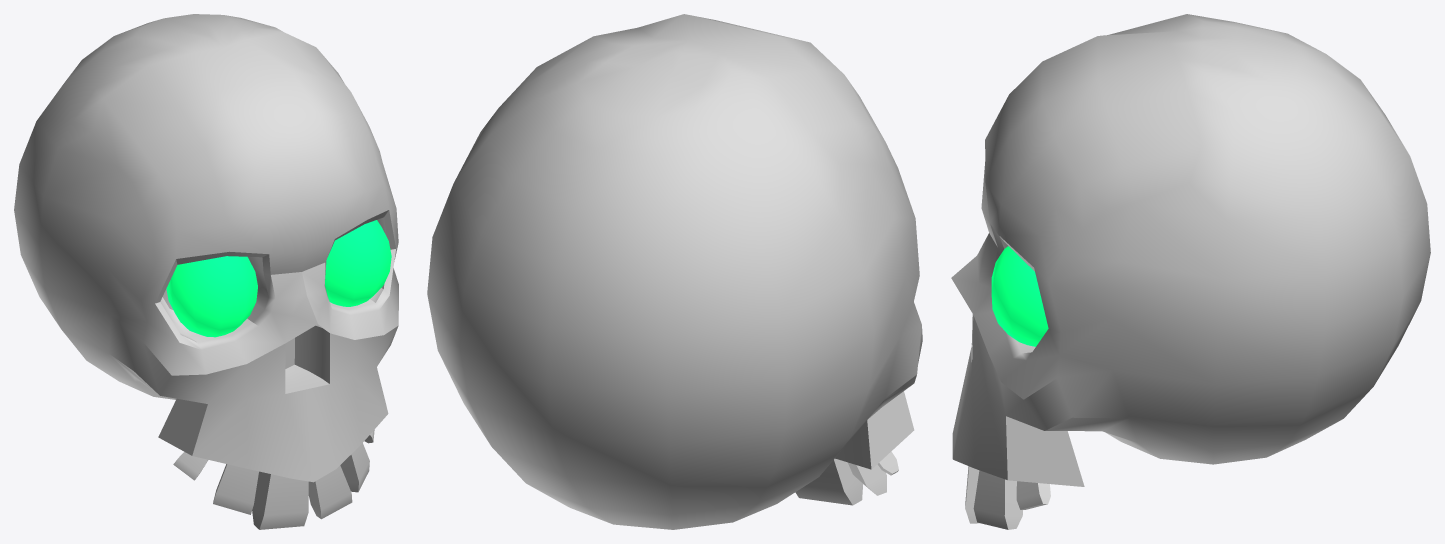
Rendered from skullProjectile.fbx.
The picture shows the model from 3 angles, left to right: view 1: azimuth 30°, elevation 25°; view 2: azimuth 150°, elevation 25°; view 3: azimuth 270°, elevation 25°; orthographic projection. The views are drawn at different scales.
Parts seen in each view (by area): view 1: charon1; view 2: charon1; view 3: charon1.
Part boxes in pixels (left/top/right/bottom): charon1: left=14, top=14, right=398, bottom=529; charon1: left=427, top=14, right=922, bottom=529; charon1: left=951, top=14, right=1430, bottom=529.
Bounding box in the file's own units: 89.52 × 110 × 101.
